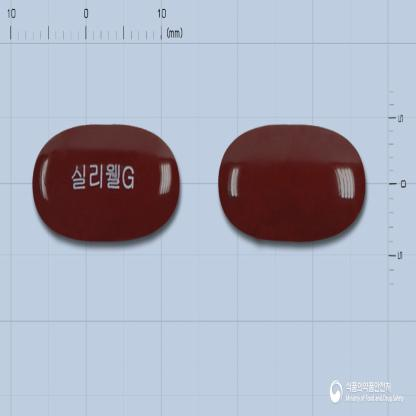pill: (217, 122, 367, 244), (31, 121, 181, 241)
